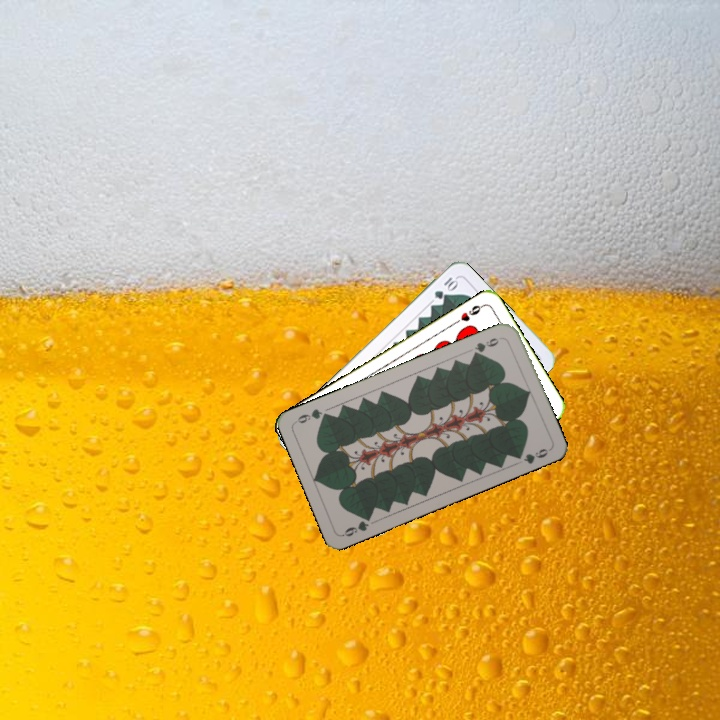G10: (430, 273, 460, 302)
G9: (339, 511, 375, 539), (469, 333, 506, 359)
H9: (450, 300, 486, 327)
